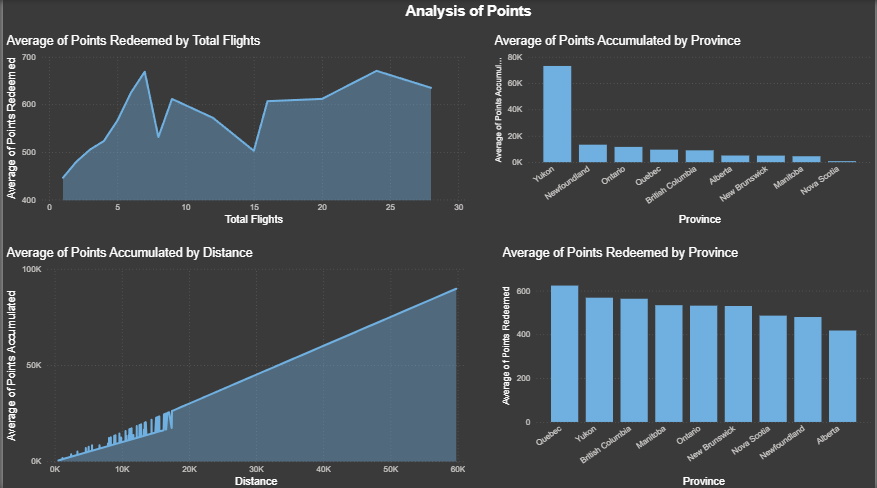

The page's visual inventory and layout, read from the dashboard file:
{"tool":"powerbi","page":{"name":"Page 4","canvas":[1280,720],"ordinal":3},"visuals":[{"type":"areaChart","fields":{"Category":["Customer_Flight_Activity[1].Total Flights"],"Y":["Avg(Customer_Flight_Activity[1].Points Redeemed)"]},"box":[0,47.8,684.1,286.8],"z":0},{"type":"clusteredColumnChart","fields":{"Category":["Customer_Loyalty_History[1].Province"],"Y":["Avg(Customer_Flight_Activity[1].Points Accumulated)"]},"box":[717,47.8,563.2,286.8],"z":1000},{"type":"clusteredColumnChart","fields":{"Category":["Customer_Loyalty_History[1].Province"],"Y":["Avg(Customer_Flight_Activity[1].Points Redeemed)"]},"box":[729,360,551.2,360],"z":2000},{"type":"stackedAreaChart","fields":{"Category":["Customer_Flight_Activity[1].Distance"],"Y":["Avg(Customer_Flight_Activity[1].Points Accumulated)"]},"box":[0,360,684.1,360],"z":3000},{"type":"textbox","box":[500.4,0,366,37.3],"z":4000}]}

Visuals, with their boxes in screenshot pixels (x1, y1, x2, y2), scaled from the page's 1280x720 canvas onto the 877x488 screenshot:
areaChart - Customer_Flight_Activity[1].Total Flights x Avg(Customer_Flight_Activity[1].Points Redeemed): [left=0, top=32, right=469, bottom=227]
clusteredColumnChart - Customer_Loyalty_History[1].Province x Avg(Customer_Flight_Activity[1].Points Accumulated): [left=491, top=32, right=876, bottom=227]
clusteredColumnChart - Customer_Loyalty_History[1].Province x Avg(Customer_Flight_Activity[1].Points Redeemed): [left=499, top=244, right=876, bottom=487]
stackedAreaChart - Customer_Flight_Activity[1].Distance x Avg(Customer_Flight_Activity[1].Points Accumulated): [left=0, top=244, right=469, bottom=487]
textbox: [left=343, top=0, right=594, bottom=25]
